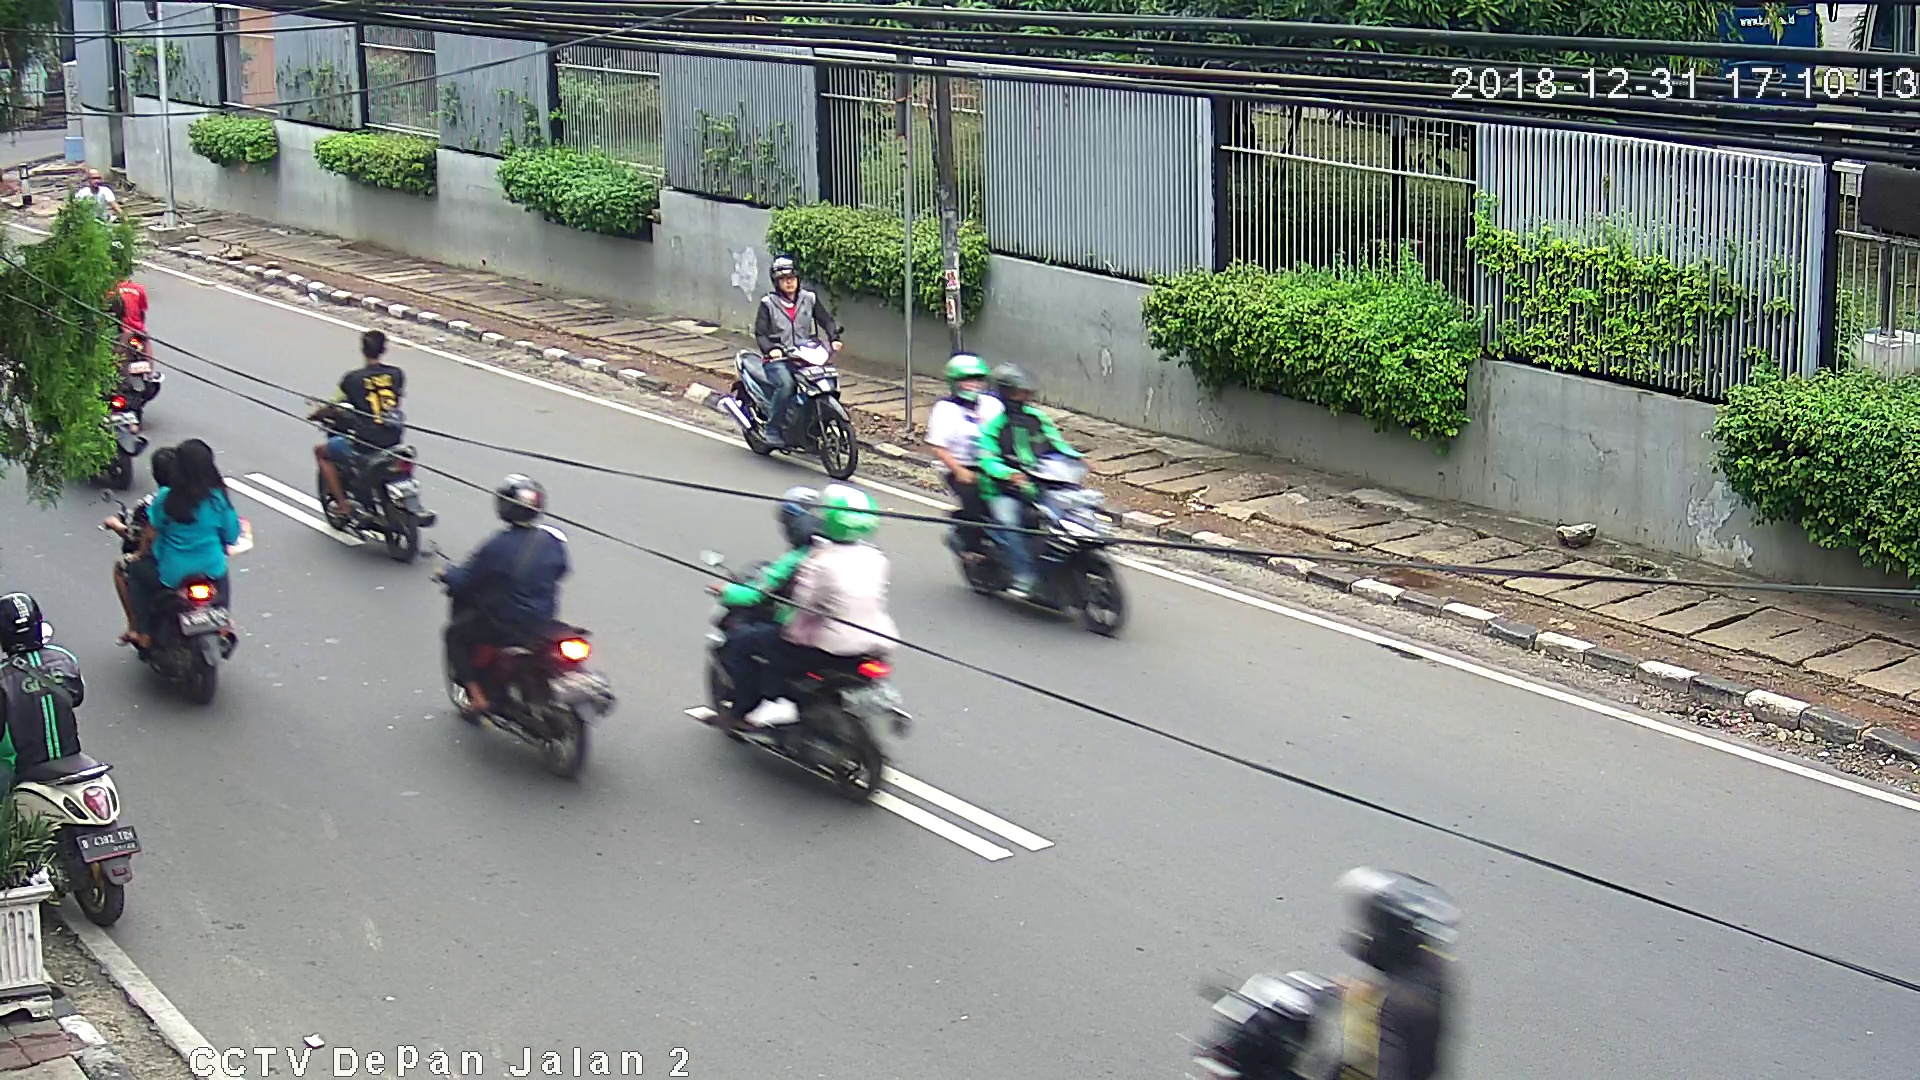motorcycle: (695, 481, 914, 818), (914, 352, 1135, 650), (430, 472, 607, 795), (1, 589, 154, 940), (91, 433, 247, 713), (723, 248, 873, 477), (299, 323, 440, 566)
